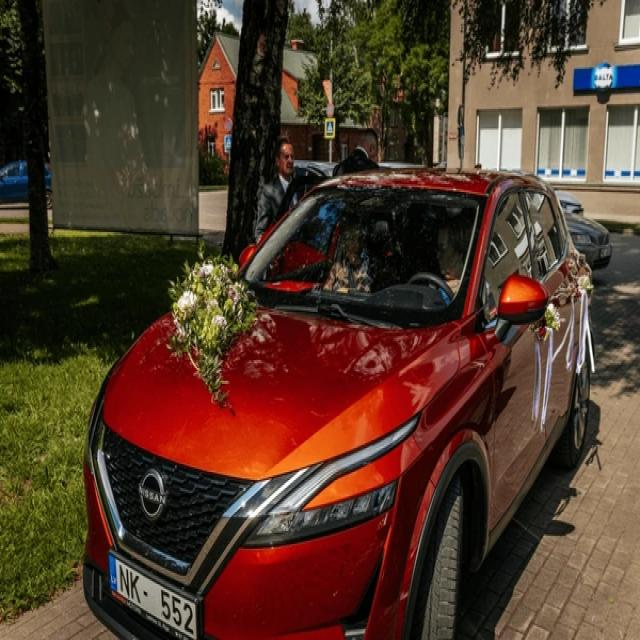nissan: (136, 469, 169, 525)
